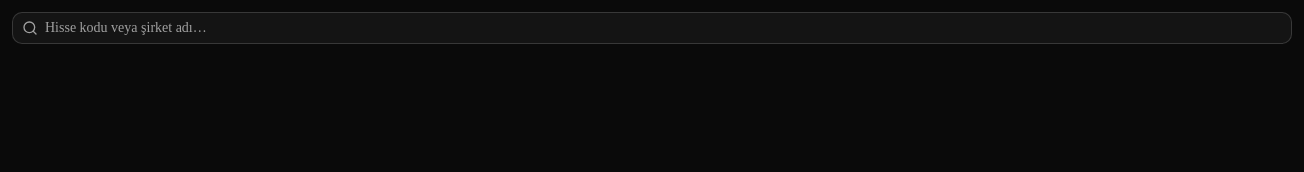
Test: StockSearch › backend hatasını gösterir
Type "thy" into the field named "Hisse ara" at (652, 28), box left=12, top=12, right=1292, bottom=44
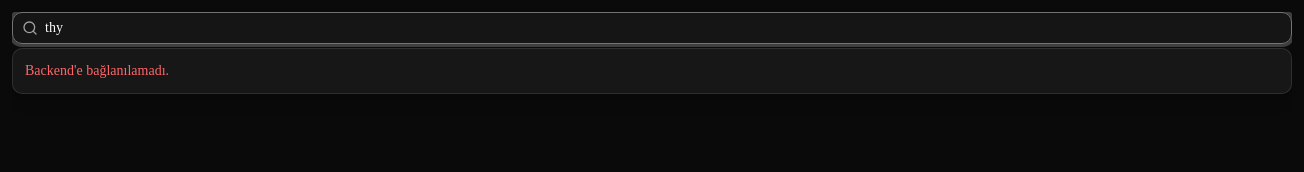
Expected: the text "Backend'e bağlanılamadı." is shown, left=25, top=63, right=169, bottom=78
